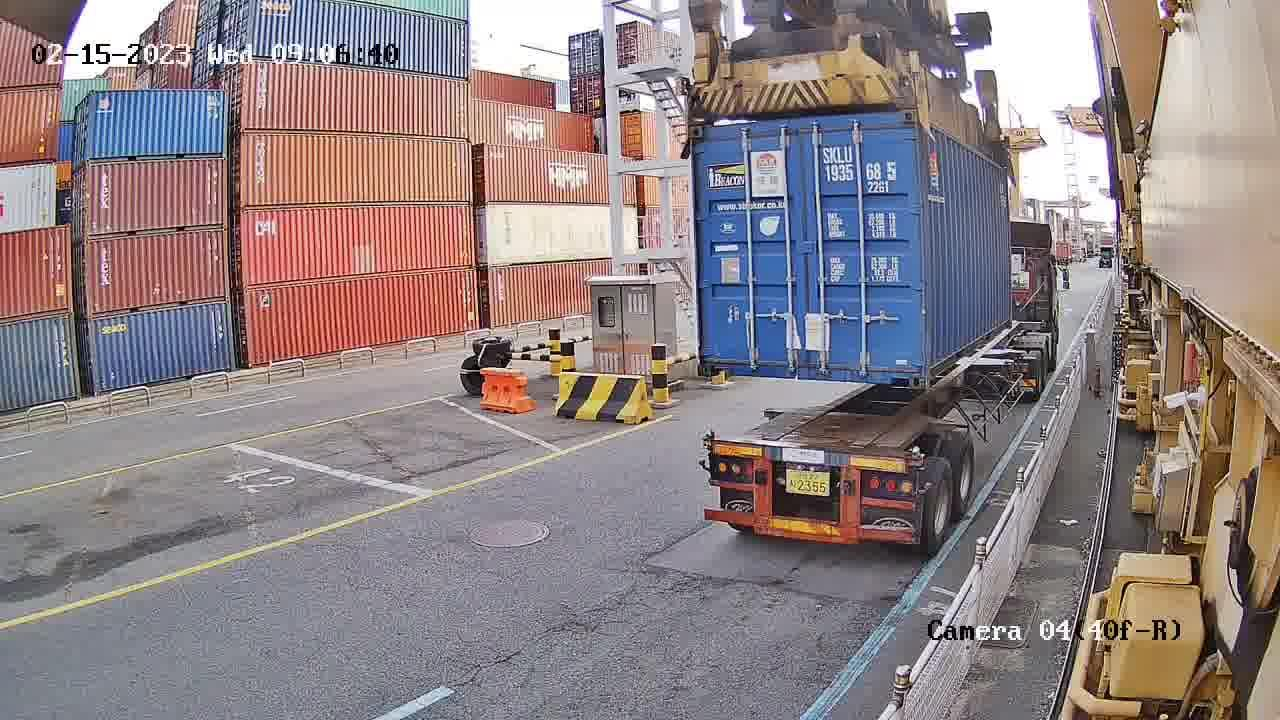Chassis: (710, 443, 909, 480)
Cone: (699, 425, 713, 461), (908, 445, 928, 469)
Hole_L: (697, 345, 731, 379)
Hole_R: (890, 356, 929, 390)
Tire: (926, 464, 954, 541), (951, 436, 977, 513)
